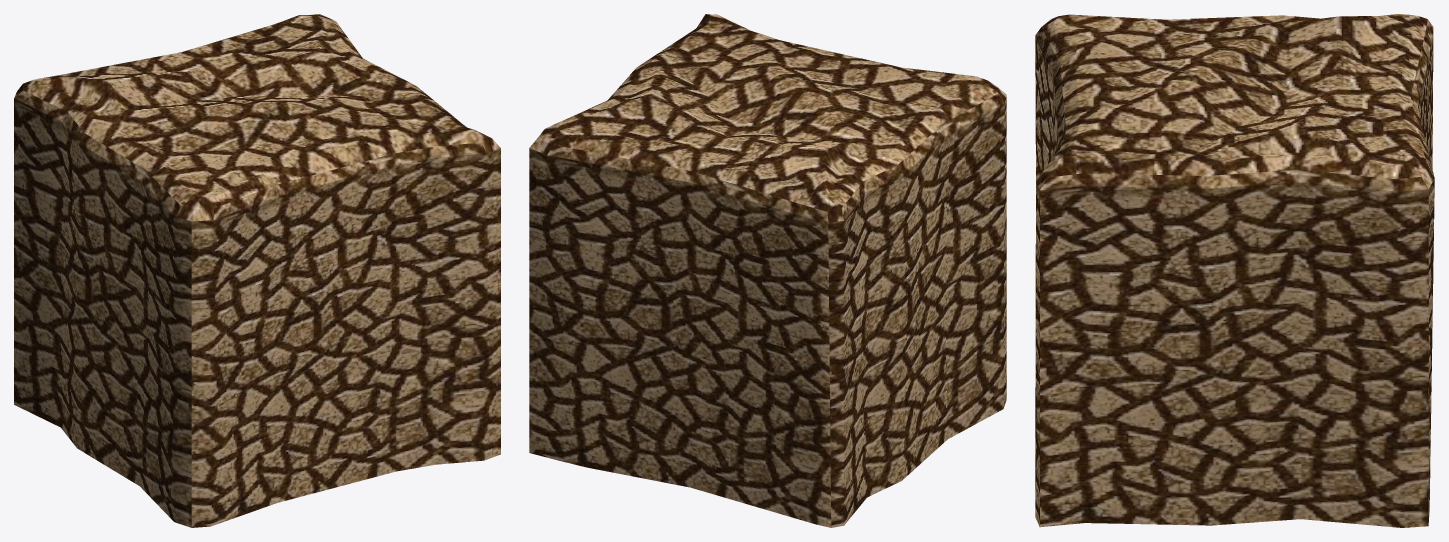
File: Block_Dirt_01.DAE
3 views of the same model, side by side, from view 1: azimuth 30°, elevation 25°; view 2: azimuth 150°, elevation 25°; view 3: azimuth 270°, elevation 25° (orthographic). The views are drawn at different scales.
Visible parts, largest first — view 1: Box002; view 2: Box002; view 3: Box002.
Part boxes in pixels (x1=…): Box002: x1=14, y1=14, x2=500, y2=527; Box002: x1=529, y1=14, x2=1006, y2=527; Box002: x1=1035, y1=14, x2=1434, y2=527.
Size of the model in its own units: 29.86 by 30.47 by 29.69.
